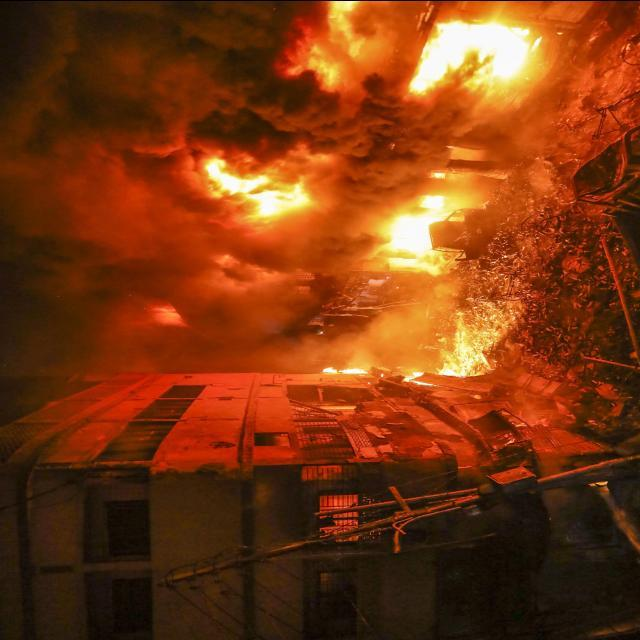Fire: (154, 2, 552, 260)
